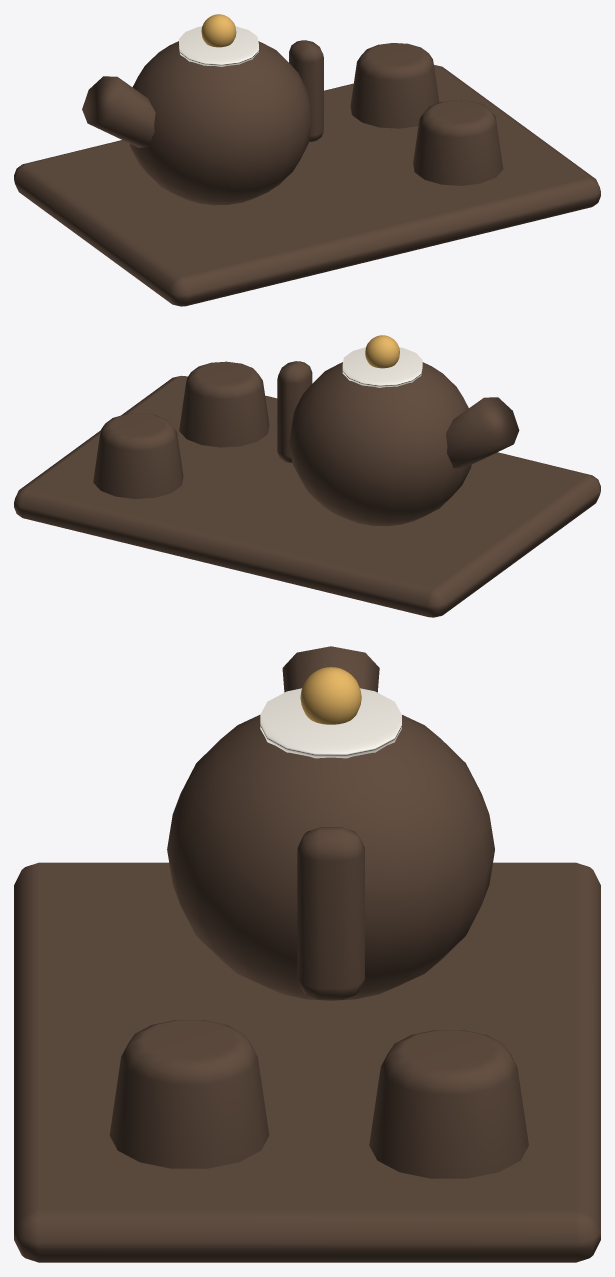
File: teaset.glb
3 renders of one model, top to bottom at view 1: azimuth 30°, elevation 25°; view 2: azimuth 150°, elevation 25°; view 3: azimuth 270°, elevation 25°, orthographic. The views are drawn at different scales.
Parts seen in each view (by area): view 1: teaset; view 2: teaset; view 3: teaset.
Part boxes in pixels (box(x1,y1,x2,y2)): teaset: box(14, 14, 600, 306); teaset: box(14, 335, 600, 617); teaset: box(14, 646, 600, 1262).
Size of the model in its own units: 0.3687 by 0.1634 by 0.2487.
